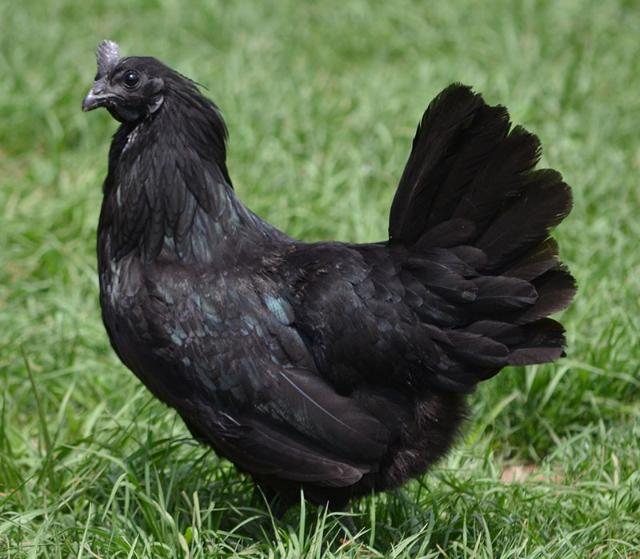Chicken: (81, 37, 579, 533)
